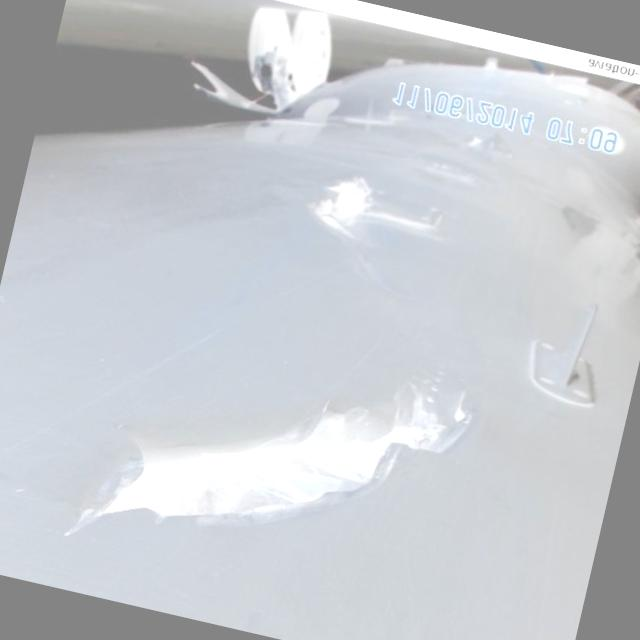crack: (60, 299, 483, 620)
